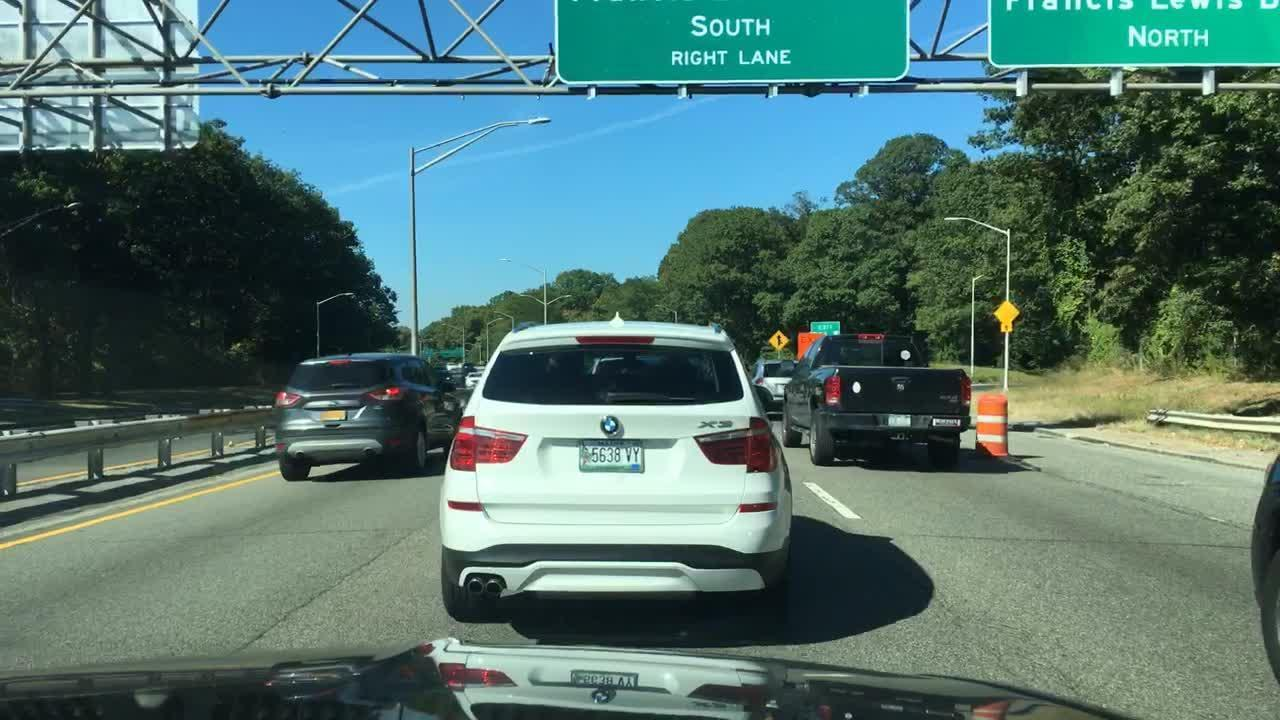bmw: (594, 409, 627, 441)
